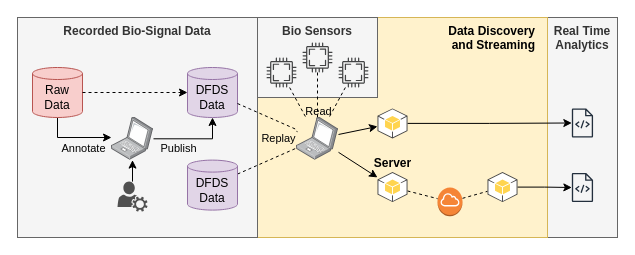
The diagram is 635 pixels wide and 255 high, and some of its shapes have lost their labels. The shapes that lost their labels are listed below. From the top down, each one's centre as x and y in pixels, then its label:
At pixel 132 138: "Curator".
At pixel 317 138: "DataMux".
At pixel 392 122: "API".
At pixel 502 186: "Remote API".
